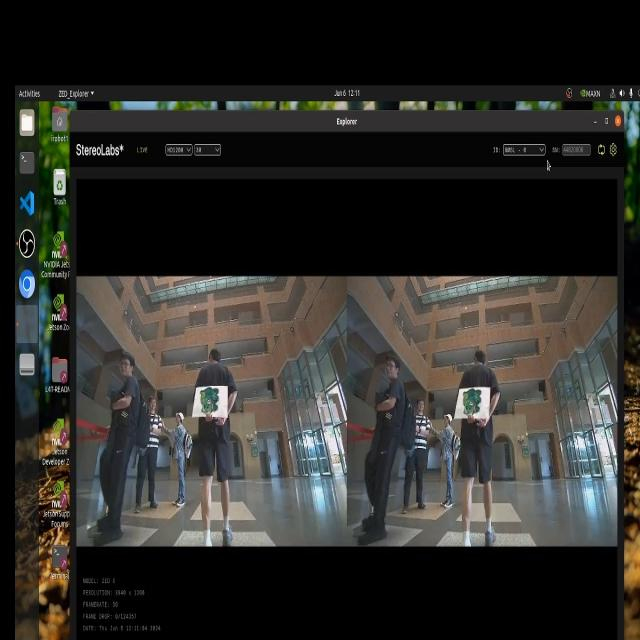green: (198, 377, 228, 413), (465, 392, 490, 432)
